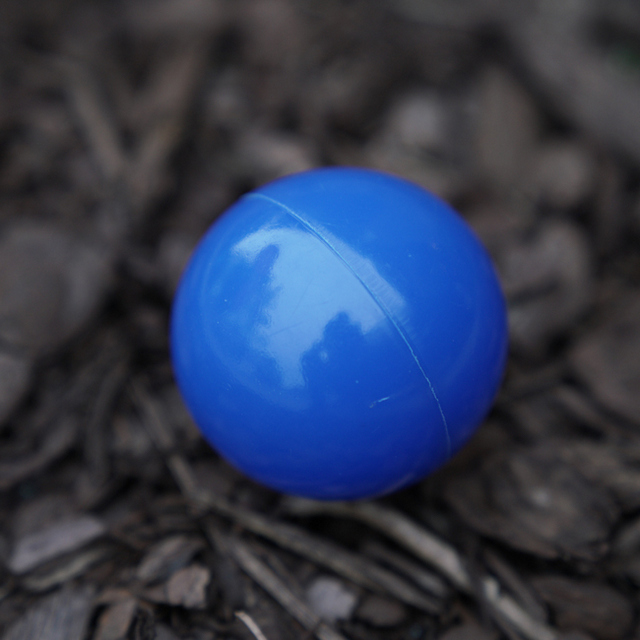Ball: (171, 170, 506, 494)
